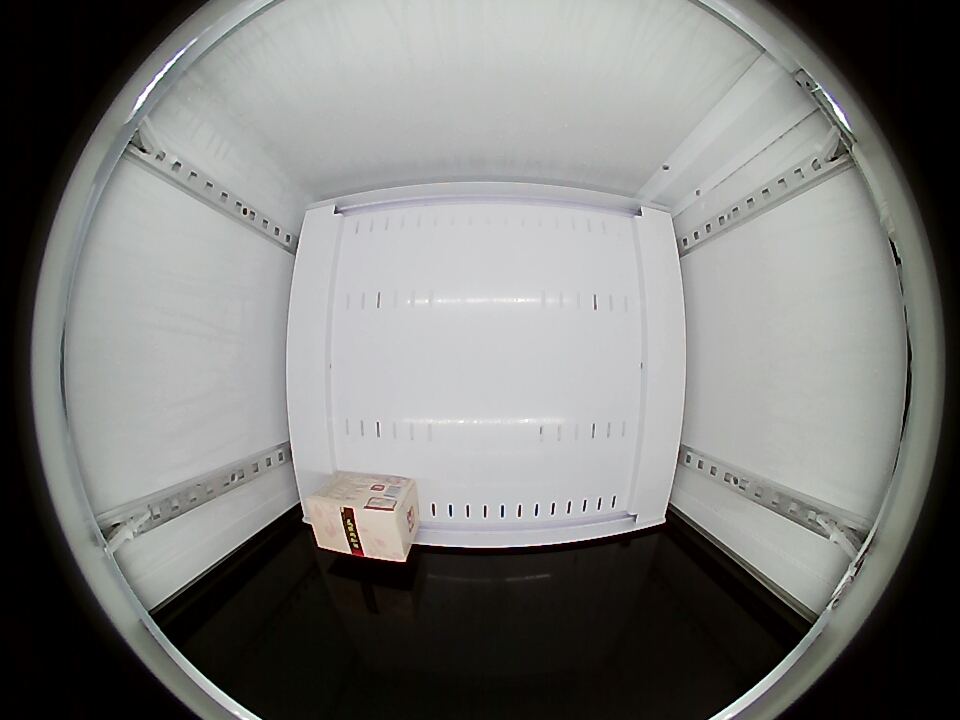rousongbing: (303, 478, 415, 563)
